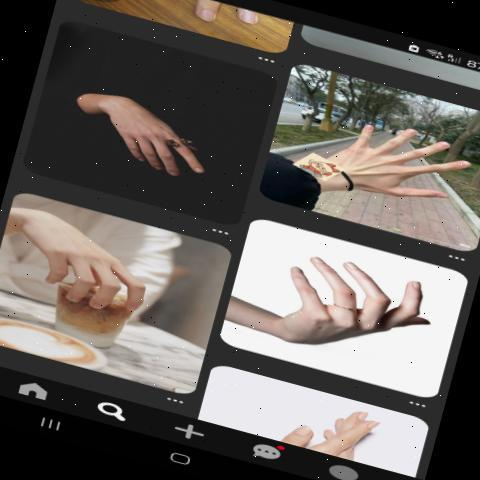Hands: (15, 199, 175, 356), (294, 96, 476, 233), (257, 239, 443, 371), (72, 70, 239, 188)
